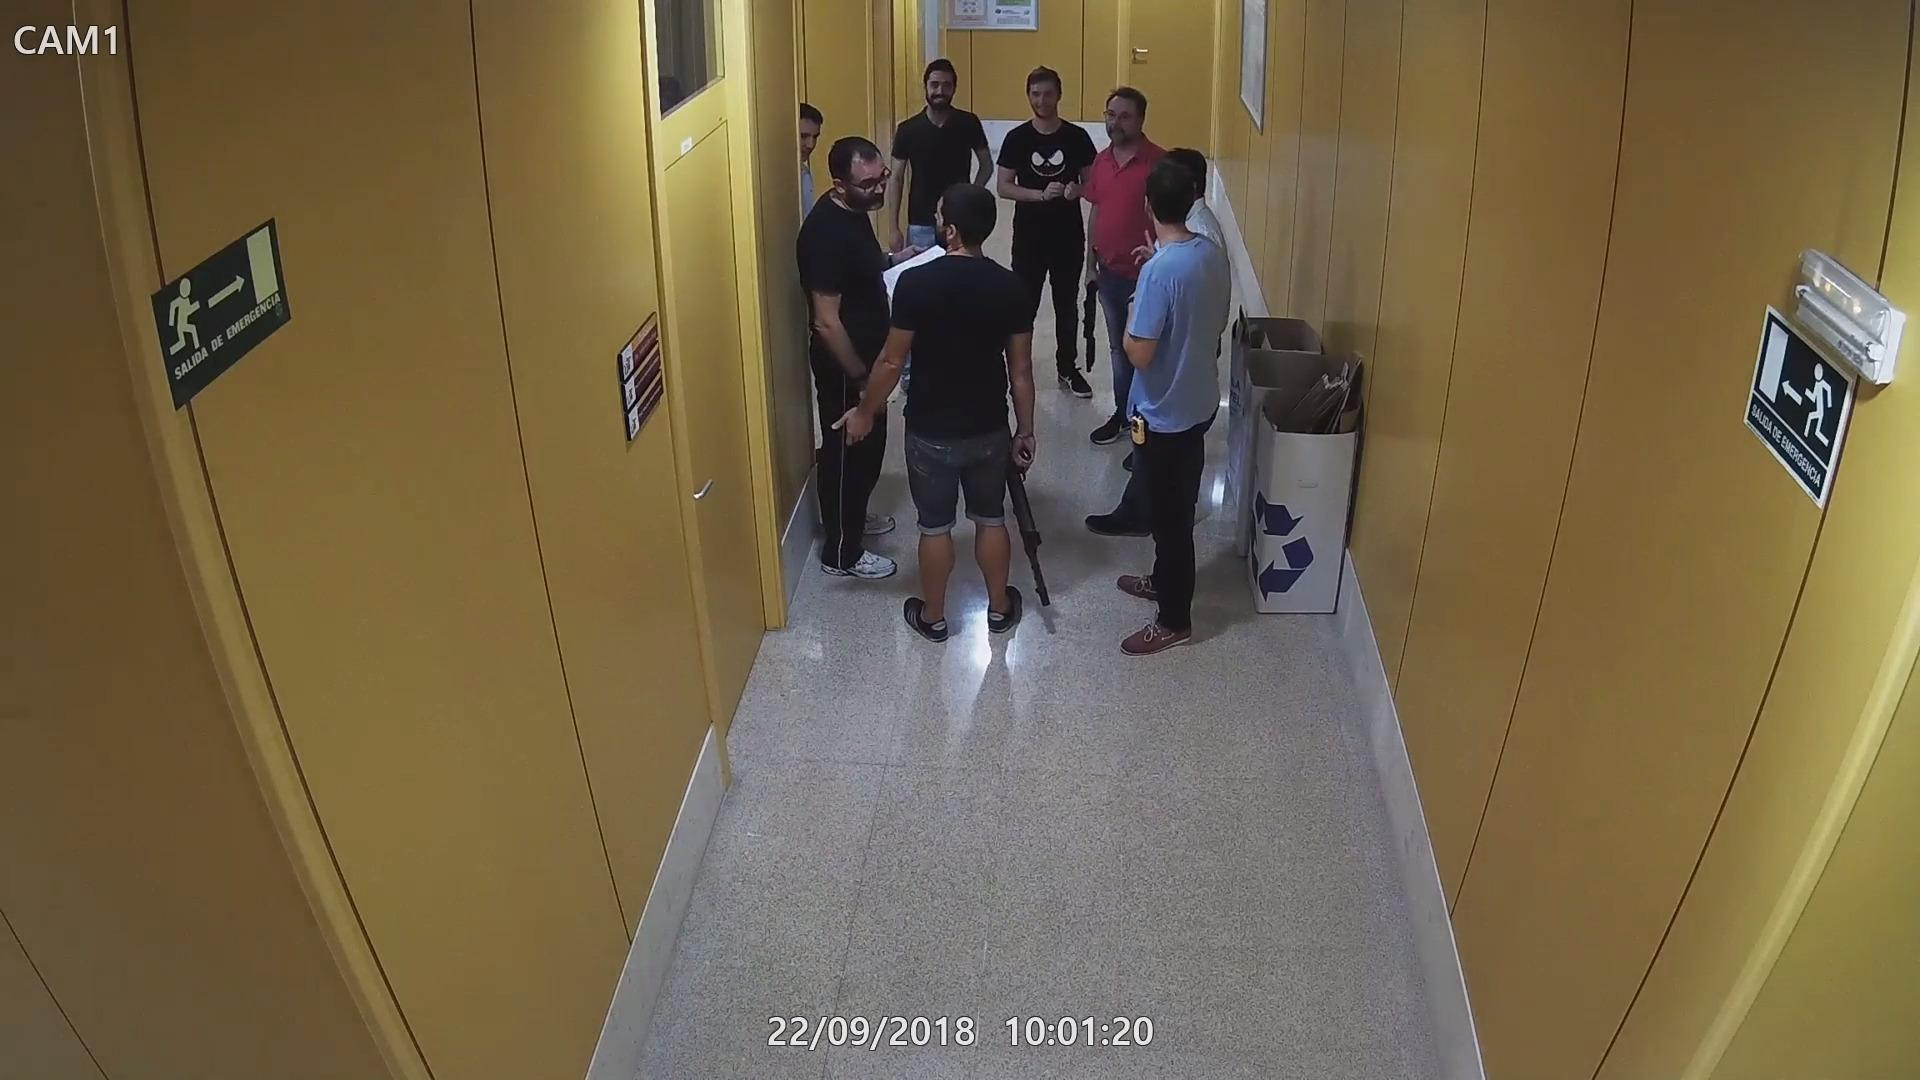Handgun: (1081, 237, 1109, 274)
